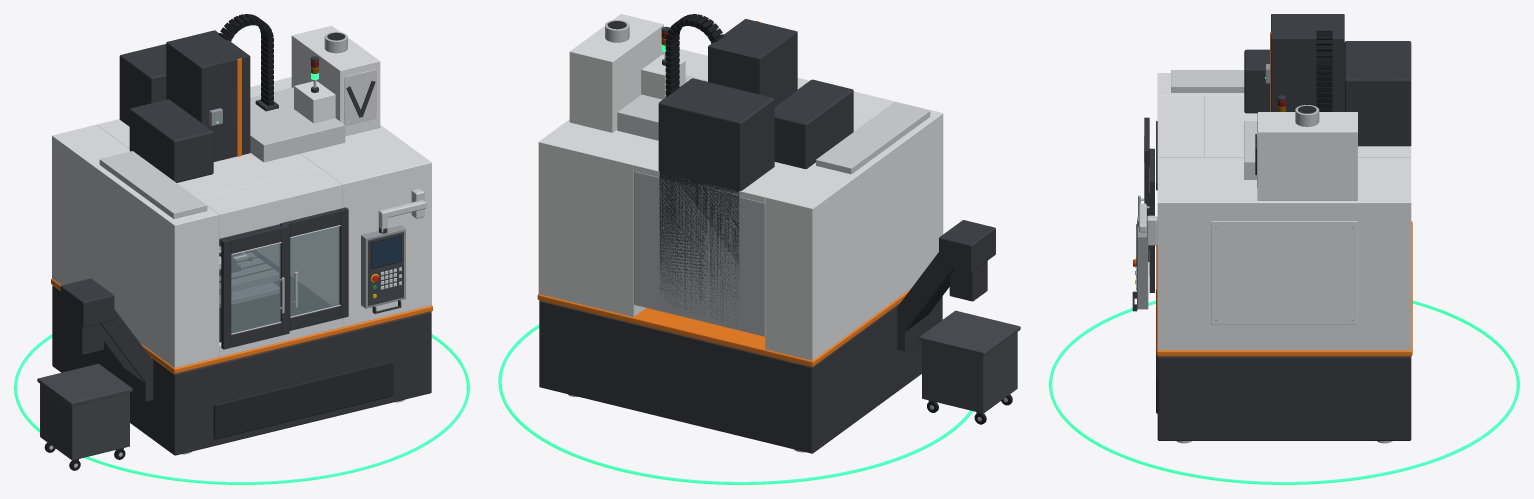
The model's file is cnc_vmc_draco.glb.
The picture shows the model from 3 angles, left to right: view 1: azimuth 30°, elevation 25°; view 2: azimuth 150°, elevation 25°; view 3: azimuth 270°, elevation 25°; orthographic projection. The views are drawn at different scales.
Parts seen in each view (by area): view 1: CNC_Enclosure, CNC_Base, CNC_AuxUnit, CNC_Column, CNC_Head, CNC_ChipBin, CNC_ChipConveyor, CNC_Door_Left_Frame, CNC_Door_Left_Glass, CNC_Door_Right_Glass, CNC_Door_Right_Frame, CNC_HMI_Pendant (+6 smaller); view 2: CNC_Enclosure, CNC_Base, CNC_Column, CNC_AuxUnit, CNC_ChipBin, CNC_ChipConveyor, CNC_Head, CNC_StatusRing, CNC_CableCarrier; view 3: CNC_Enclosure, CNC_Base, CNC_AuxUnit, CNC_Column, CNC_Head, CNC_StatusRing, CNC_CableCarrier, CNC_HMI_Pendant, CNC_Door_Right_Frame, CNC_Door_Left_Frame, CNC_HMI_Arm.
Part boxes in pixels (bbox=[...]): CNC_Enclosure: bbox=[52, 77, 431, 368]; CNC_Base: bbox=[51, 279, 432, 455]; CNC_AuxUnit: bbox=[250, 25, 380, 162]; CNC_Column: bbox=[119, 44, 213, 182]; CNC_Head: bbox=[166, 30, 250, 161]; CNC_ChipBin: bbox=[37, 363, 132, 470]; CNC_ChipConveyor: bbox=[60, 278, 153, 401]; CNC_Door_Left_Frame: bbox=[221, 224, 289, 349]; CNC_Door_Left_Glass: bbox=[231, 243, 280, 333]; CNC_Door_Right_Glass: bbox=[290, 226, 339, 316]; CNC_Door_Right_Frame: bbox=[280, 207, 348, 330]; CNC_HMI_Pendant: bbox=[361, 225, 405, 313]; CNC_Enclosure: bbox=[538, 49, 943, 360]; CNC_Base: bbox=[537, 289, 942, 453]; CNC_Column: bbox=[658, 78, 853, 323]; CNC_AuxUnit: bbox=[569, 14, 707, 140]; CNC_ChipBin: bbox=[919, 310, 1020, 424]; CNC_ChipConveyor: bbox=[897, 220, 995, 351]; CNC_Head: bbox=[708, 19, 797, 106]; CNC_StatusRing: bbox=[498, 324, 972, 484]; CNC_CableCarrier: bbox=[665, 14, 723, 97]; CNC_Enclosure: bbox=[1156, 70, 1411, 350]; CNC_Base: bbox=[1156, 221, 1412, 440]; CNC_AuxUnit: bbox=[1244, 105, 1357, 200]; CNC_Column: bbox=[1244, 41, 1411, 146]; CNC_Head: bbox=[1270, 14, 1344, 111]; CNC_StatusRing: bbox=[1049, 300, 1519, 484]; CNC_CableCarrier: bbox=[1316, 30, 1332, 111]; CNC_HMI_Pendant: bbox=[1132, 216, 1148, 311]; CNC_Door_Right_Frame: bbox=[1143, 148, 1154, 292]; CNC_Door_Left_Frame: bbox=[1138, 117, 1149, 261]; CNC_HMI_Arm: bbox=[1138, 204, 1157, 245].
Size of the model in its own units: 3.7 by 3.01 by 3.52.
